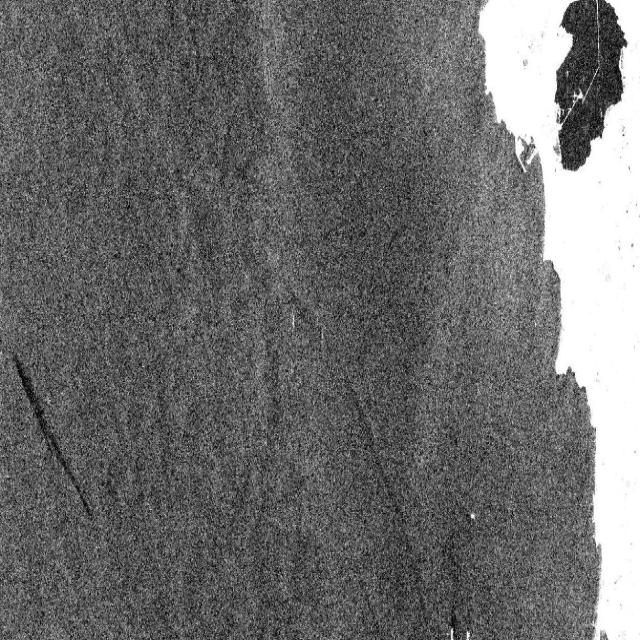oil-spill: (11, 349, 98, 538)
